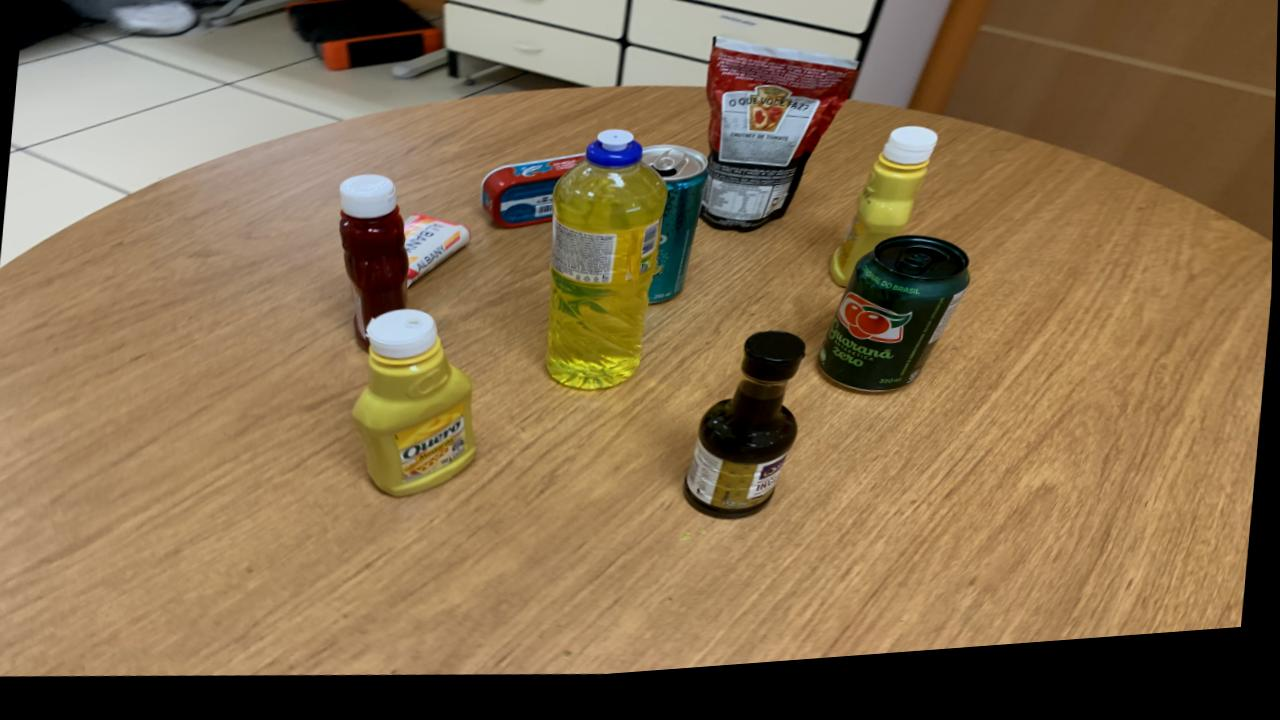Detergent-Cleanup_Items: (547, 138, 667, 398)
English_Sauce-Pantry_Items: (685, 343, 807, 529)
Guarana_Can-Drinks: (819, 249, 971, 406)
Ketchup-Pantry_Items: (339, 180, 410, 355)
Mustard-Pantry_Items: (355, 314, 478, 502), (831, 140, 938, 299)
Soap-Cleanup_Items: (404, 221, 471, 292)
Tea-Drinks: (642, 156, 709, 314)
Tomato_Sauce-Pantry_Items: (702, 49, 857, 243)
Tuna_Can-Pantry_Items: (481, 162, 585, 235)
